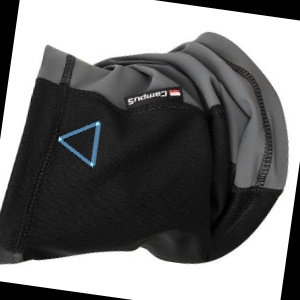triangle: (56, 118, 105, 170)
